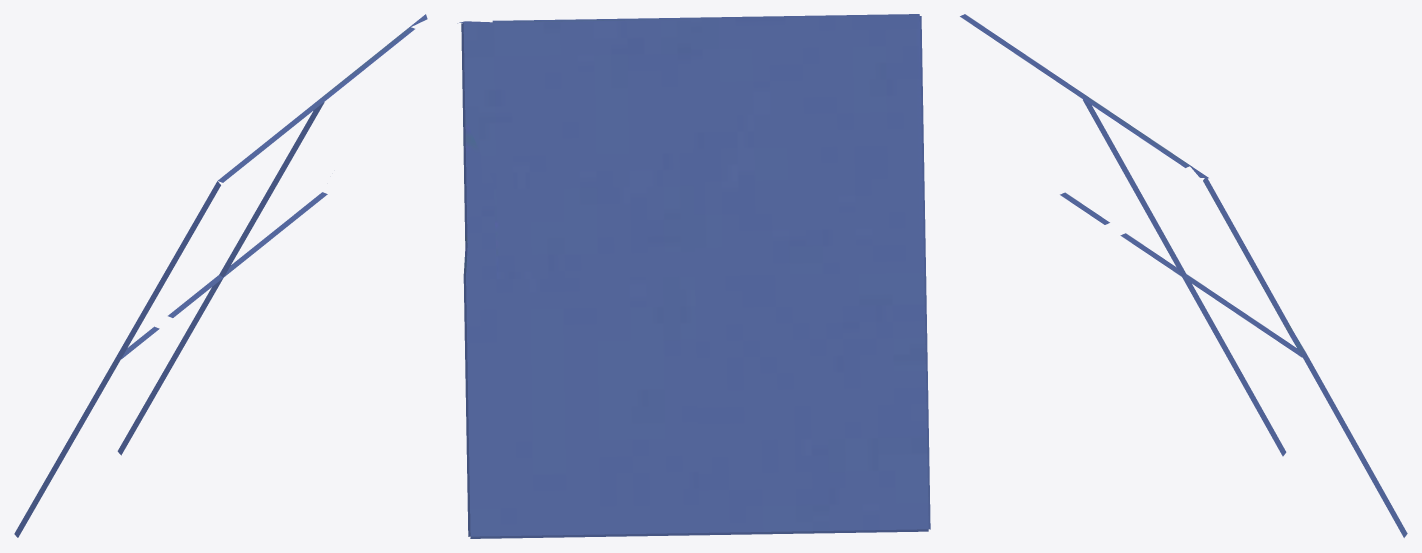
3 views of the same model, side by side, from view 1: azimuth 30°, elevation 25°; view 2: azimuth 150°, elevation 25°; view 3: azimuth 270°, elevation 25° (orthographic). The views are drawn at different scales.
Size of the model in its own units: 39533 by 35104 by 34428.
Materials: 1 (1 with a texture image).
